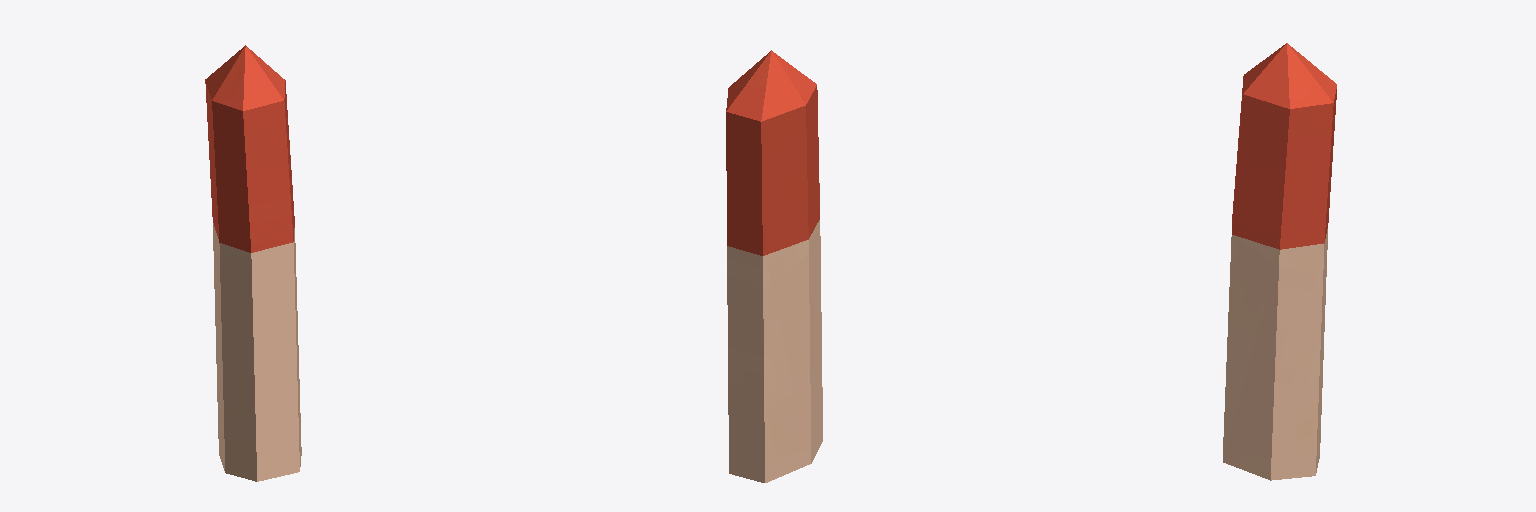
3 renders of one model, left to right at view 1: azimuth 30°, elevation 25°; view 2: azimuth 150°, elevation 25°; view 3: azimuth 270°, elevation 25°, orthographic.
Parts seen in each view (by area): view 1: brazoDipper_izq; view 2: brazoDipper_izq; view 3: brazoDipper_izq.
Part boxes in pixels (bbox=[...]): brazoDipper_izq: bbox=[205, 45, 301, 481]; brazoDipper_izq: bbox=[726, 50, 822, 482]; brazoDipper_izq: bbox=[1223, 43, 1336, 480].
Bounding box in the file's own units: 0.0823 × 0.4022 × 0.0999.
Materials: 1 (1 with a texture image).